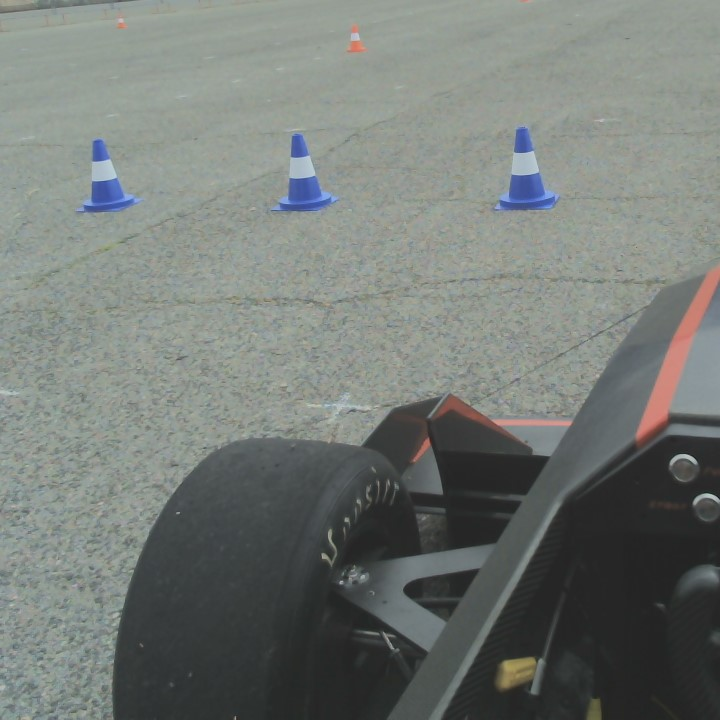cone: (494, 127, 559, 211), (275, 129, 337, 210), (82, 139, 136, 213)
